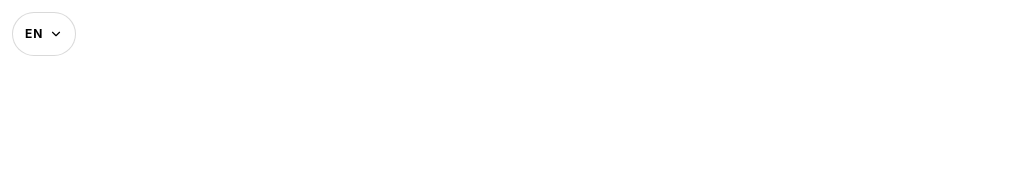
it: LocaleSwitcher › closes on Escape and returns focus to the trigger
Click the button with aria-label "Current language: EN": [44, 34] box [12,12,76,56]
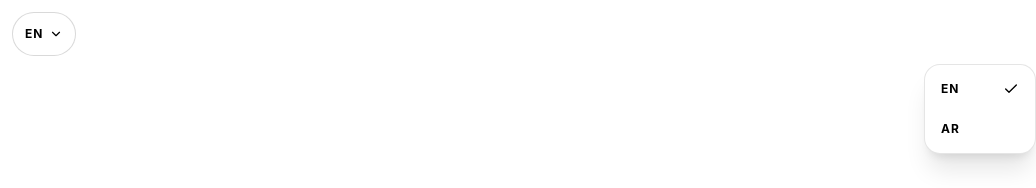
Press Escape
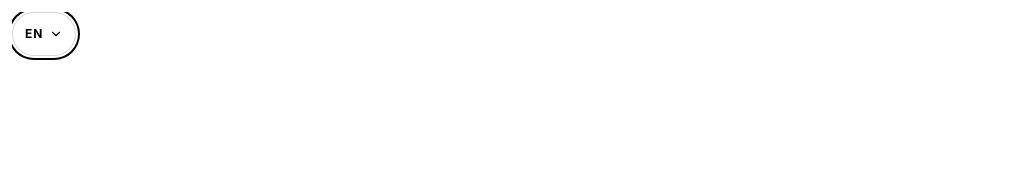
Check: the menu is gone
